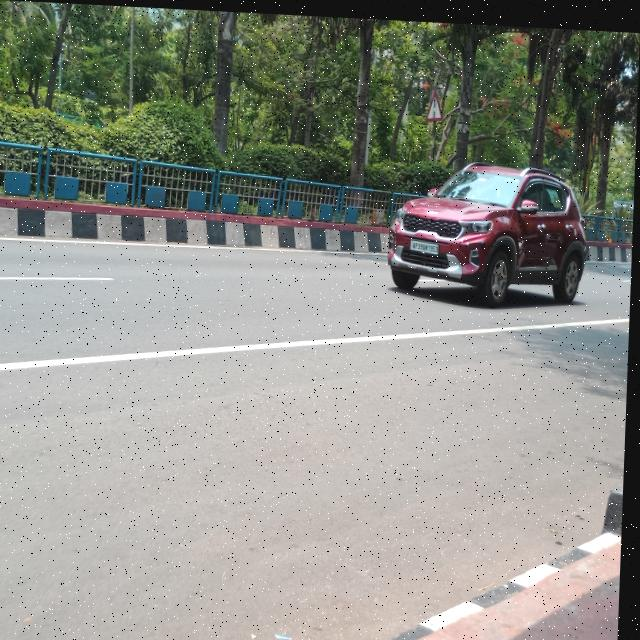car: (389, 138, 602, 313)
